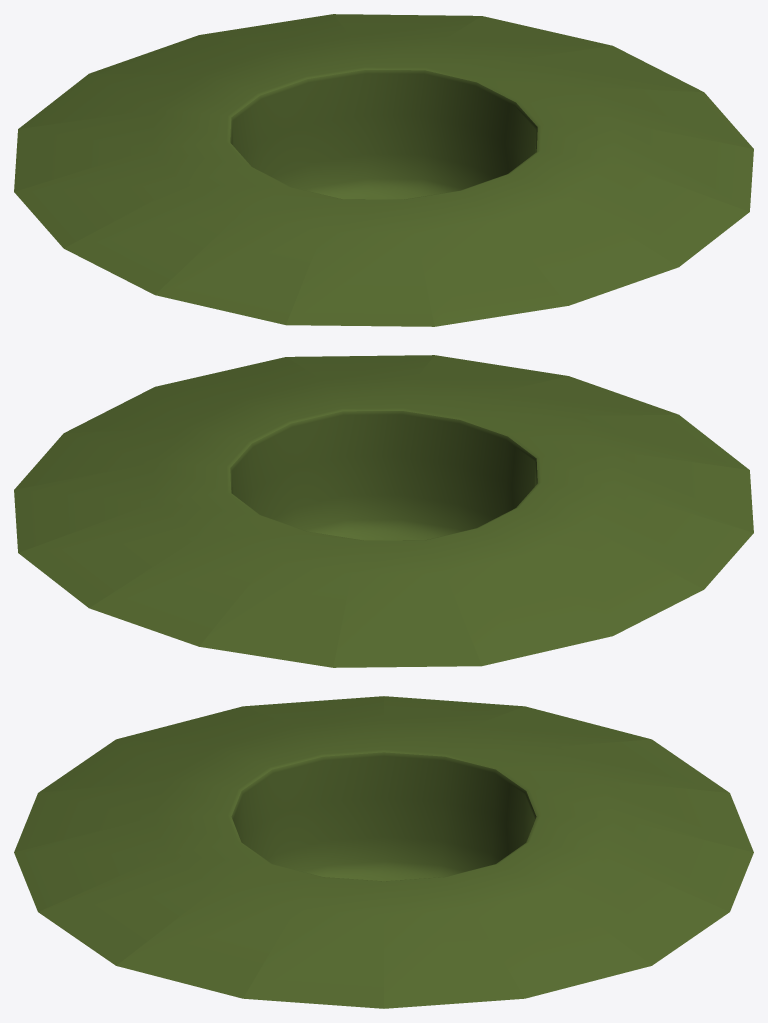
The model's file is GolfHole.fbx.
3 views of the same model, one above another, from view 1: azimuth 30°, elevation 25°; view 2: azimuth 150°, elevation 25°; view 3: azimuth 270°, elevation 25° (orthographic).
Visible parts, largest first — view 1: Golfhole; view 2: Golfhole; view 3: Golfhole.
Part boxes in pixels (x1,y1,x2,y2): Golfhole: (14, 14, 753, 326); Golfhole: (14, 355, 753, 667); Golfhole: (14, 696, 753, 1008).
Size of the model in its own units: 0.046 by 0.00833 by 0.046.
